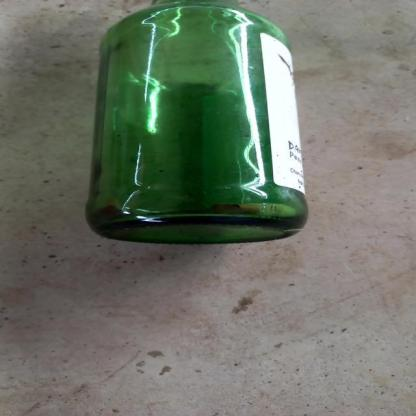Can: (86, 0, 308, 245)
